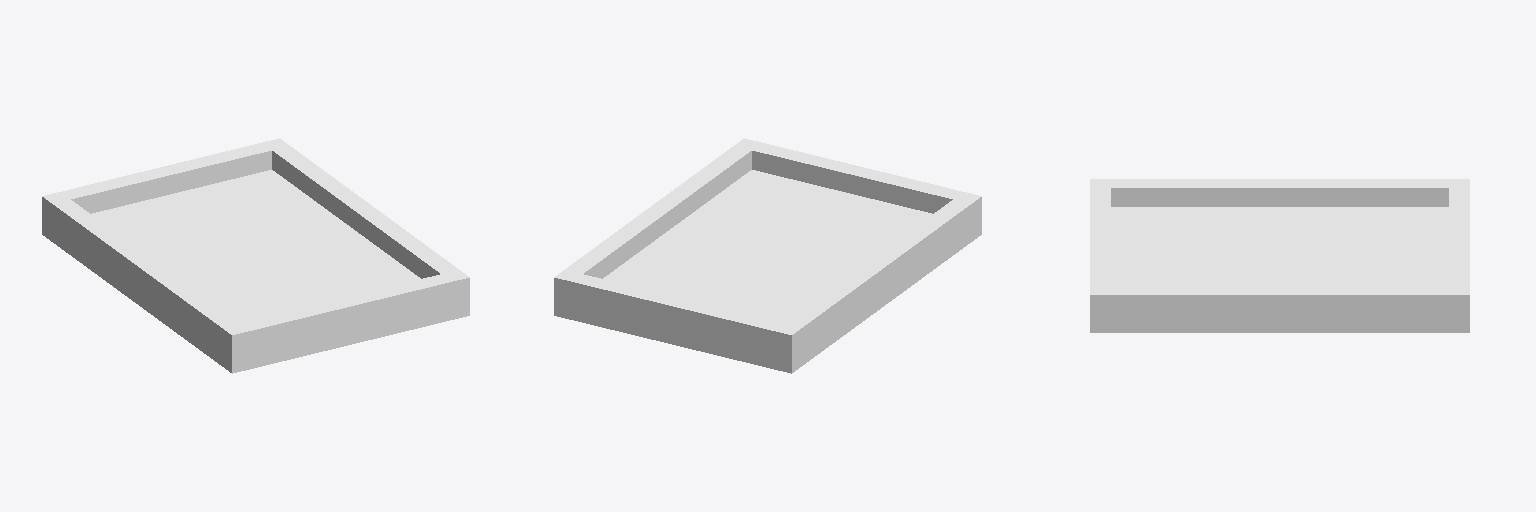
Rendered from TinyBuilding01-4.obj.
3 renders of one model, left to right at view 1: azimuth 30°, elevation 25°; view 2: azimuth 150°, elevation 25°; view 3: azimuth 270°, elevation 25°, orthographic.
Parts seen in each view (by area): view 1: object 1; view 2: object 1; view 3: object 1.
Boxes of the visible parts, x1=… form: object 1: x1=42, y1=138, x2=469, y2=373; object 1: x1=554, y1=138, x2=981, y2=373; object 1: x1=1090, y1=179, x2=1469, y2=332.
Size of the model in its own units: 1.3 by 0.2 by 1.8.